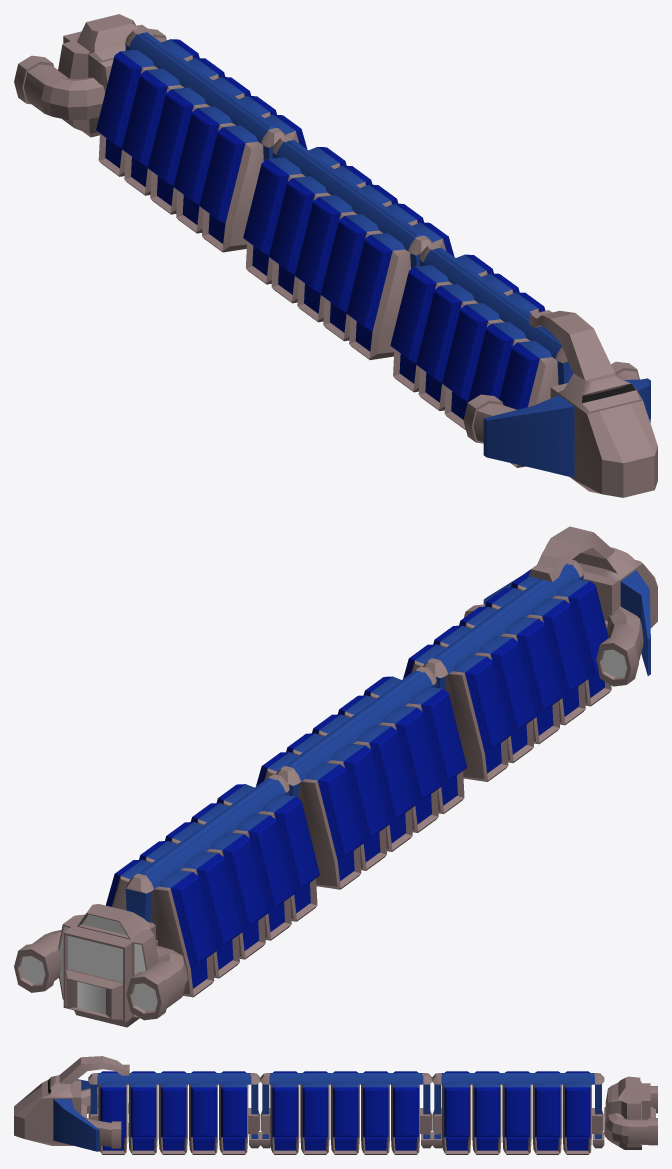
Rendered from Rebell Freighter.FBX.
3 renders of one model, top to bottom at view 1: azimuth 30°, elevation 25°; view 2: azimuth 150°, elevation 25°; view 3: azimuth 270°, elevation 25°, orthographic. The views are drawn at different scales.
Visible parts, largest first — view 1: Frigther; view 2: Frigther; view 3: Frigther.
Boxes of the visible parts, x1,y1,x2,y2 form: Frigther: (14,14,657,497); Frigther: (14,526,657,1027); Frigther: (14,1056,657,1154).
Size of the model in its own units: 165 by 137 by 931.
